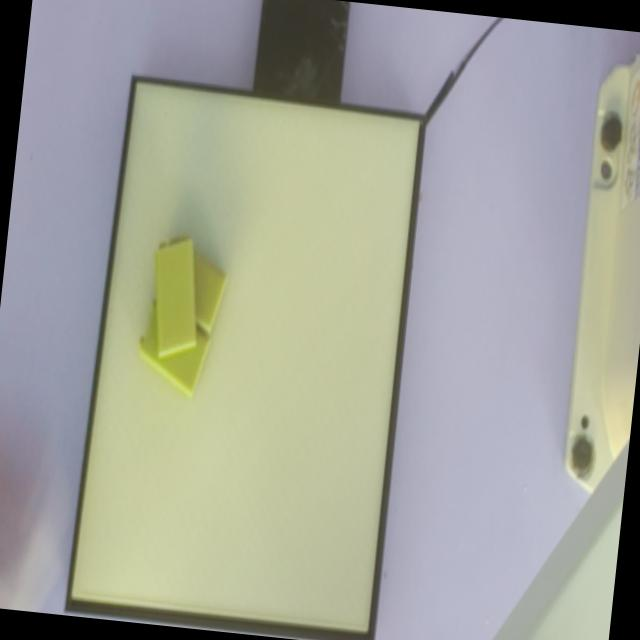bateria: (155, 232, 197, 357)
mesa: (64, 76, 426, 640)
